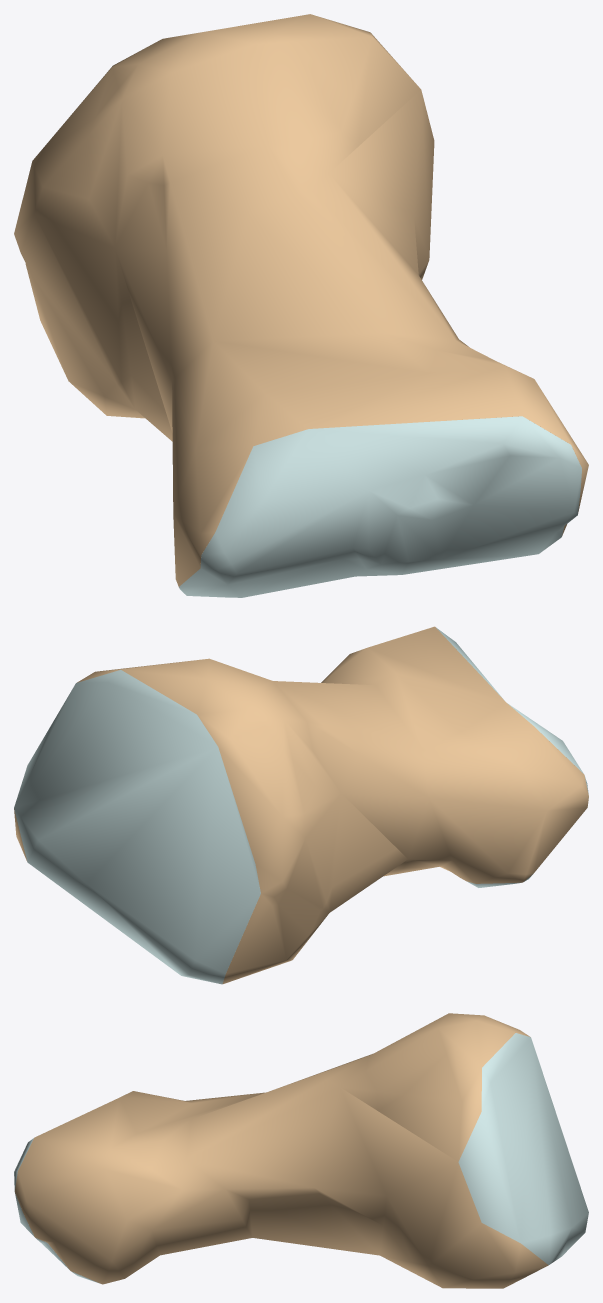
The model's file is Middle_phalanx_of_2d_finger_of_foot.r_Generated_Mesh_From_X3D.7.glb.
3 views of the same model, one above another, from view 1: azimuth 30°, elevation 25°; view 2: azimuth 150°, elevation 25°; view 3: azimuth 270°, elevation 25° (orthographic). The views are drawn at different scales.
Visible parts, largest first — view 1: Middle_phalanx_of_2d_finger_of_foot.r_Generated_Mesh_From_X3; view 2: Middle_phalanx_of_2d_finger_of_foot.r_Generated_Mesh_From_X3; view 3: Middle_phalanx_of_2d_finger_of_foot.r_Generated_Mesh_From_X3.
Part boxes in pixels (x1,y1,x2,y2): Middle_phalanx_of_2d_finger_of_foot.r_Generated_Mesh_From_X3: (14, 14, 588, 597); Middle_phalanx_of_2d_finger_of_foot.r_Generated_Mesh_From_X3: (14, 626, 588, 984); Middle_phalanx_of_2d_finger_of_foot.r_Generated_Mesh_From_X3: (14, 1013, 588, 1288).
Bounding box in the file's own units: 0.0123 × 0.00908 × 0.0176.
